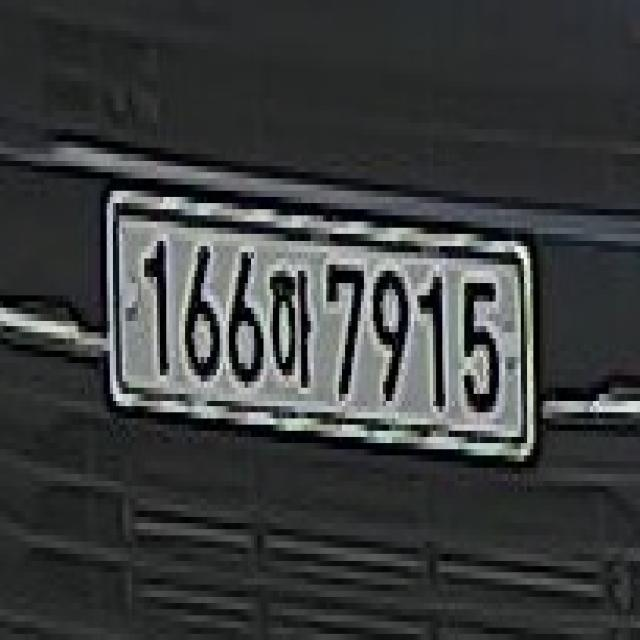plat: (104, 188, 540, 462)
